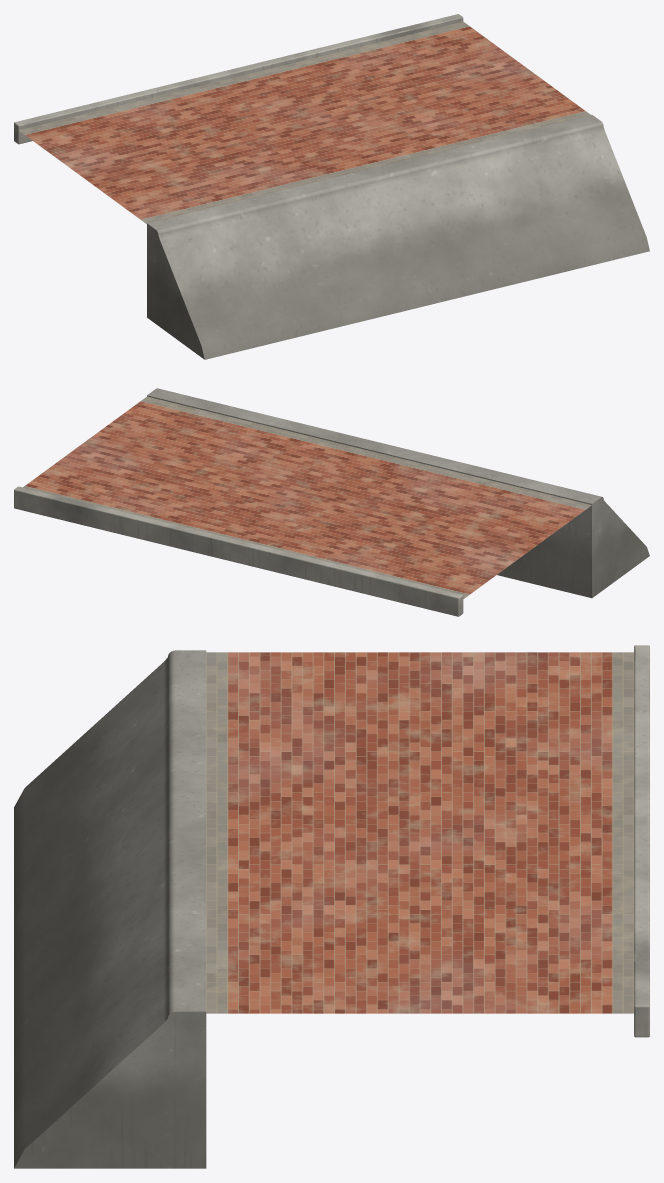
Rendered from Seawall_Straight.gltf.
3 views of the same model, one above another, from view 1: azimuth 30°, elevation 25°; view 2: azimuth 150°, elevation 25°; view 3: azimuth 270°, elevation 25° (orthographic). The views are drawn at different scales.
Parts seen in each view (by area): view 1: Seawall_Straight; view 2: Seawall_Straight; view 3: Seawall_Straight.
Boxes of the visible parts, x1,y1,x2,y2 form: Seawall_Straight: (14, 14, 649, 359); Seawall_Straight: (14, 388, 649, 616); Seawall_Straight: (14, 645, 649, 1168).
Size of the model in its own units: 8 by 1.68 by 5.95.
3 materials, 3 textured.
